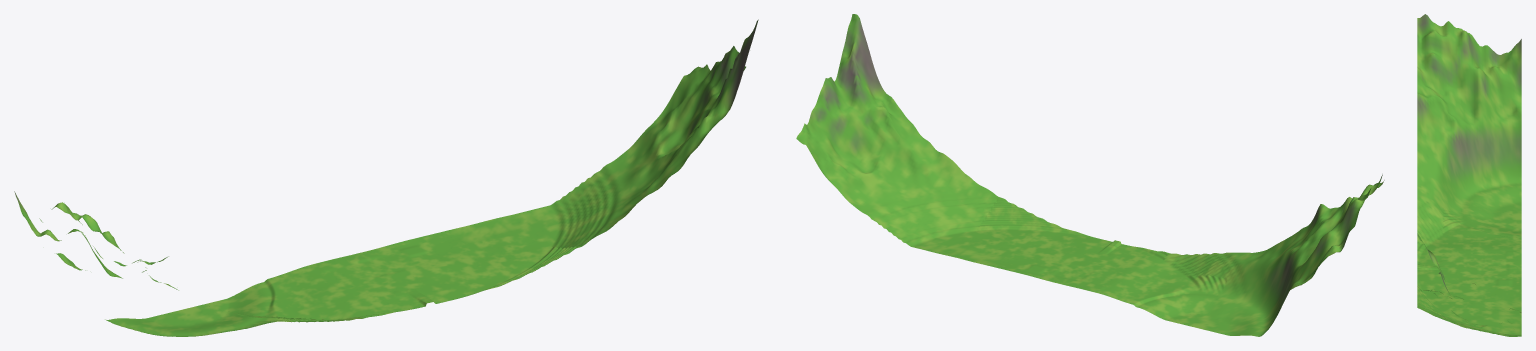
File: terrain.glb
3 renders of one model, left to right at view 1: azimuth 30°, elevation 25°; view 2: azimuth 150°, elevation 25°; view 3: azimuth 270°, elevation 25°, orthographic. The views are drawn at different scales.
Parts seen in each view (by area): view 1: terrain_2_1, terrain_3_1, terrain_4_1, terrain_5_1, terrain_1_1, terrain_0_1; view 2: terrain_4_1, terrain_5_1, terrain_1_1, terrain_3_1, terrain_2_1, terrain_0_1; view 3: terrain_0_1, terrain_1_1, terrain_2_1, terrain_3_1, terrain_4_1, terrain_5_1.
Part boxes in pixels (x1,y1,x2,y2): terrain_2_1: (262, 246, 457, 321); terrain_3_1: (386, 215, 581, 298); terrain_4_1: (510, 134, 704, 248); terrain_5_1: (634, 19, 758, 154); terrain_1_1: (139, 282, 328, 336); terrain_0_1: (14, 191, 178, 336); terrain_4_1: (845, 110, 998, 254); terrain_5_1: (796, 14, 900, 197); terrain_1_1: (1138, 236, 1290, 335); terrain_3_1: (943, 197, 1095, 278); terrain_2_1: (1040, 238, 1193, 307); terrain_0_1: (1235, 174, 1384, 336); terrain_0_1: (1417, 14, 1521, 198); terrain_1_1: (1417, 144, 1521, 237); terrain_2_1: (1417, 227, 1521, 277); terrain_3_1: (1417, 277, 1521, 321); terrain_4_1: (1417, 302, 1521, 336); terrain_5_1: (1417, 233, 1521, 327).
Bounding box in the file's own units: 990 × 310 × 180.
